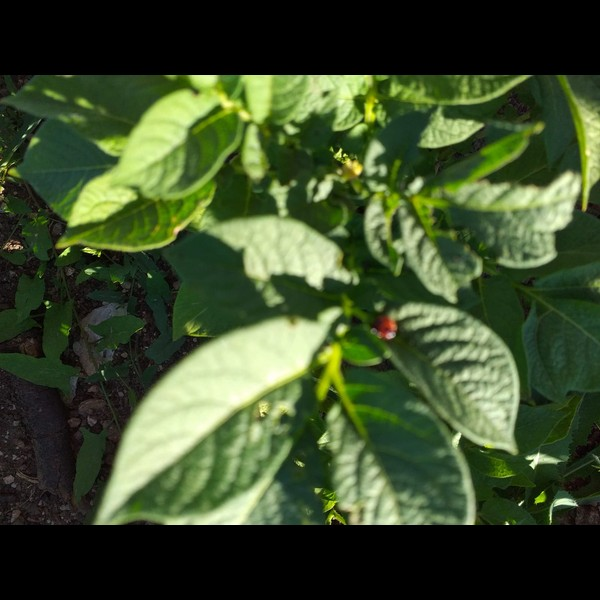hrosc: (373, 312, 399, 344)
